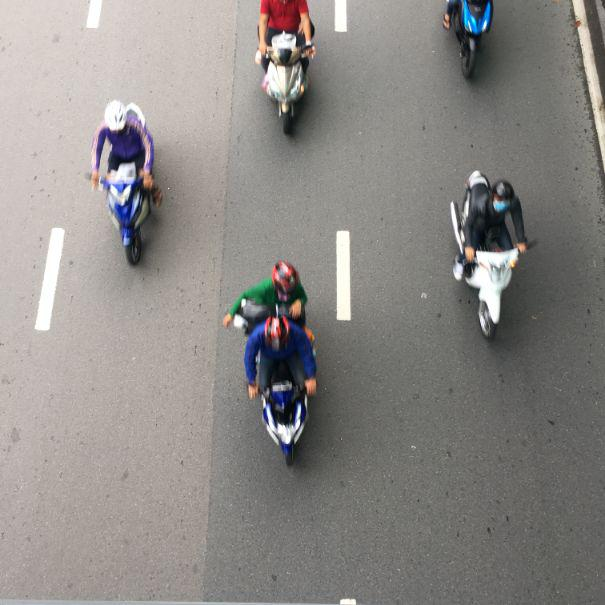motorbike: (225, 257, 333, 474), (447, 167, 531, 345), (87, 99, 165, 266), (250, 27, 316, 139), (441, 1, 500, 79)
